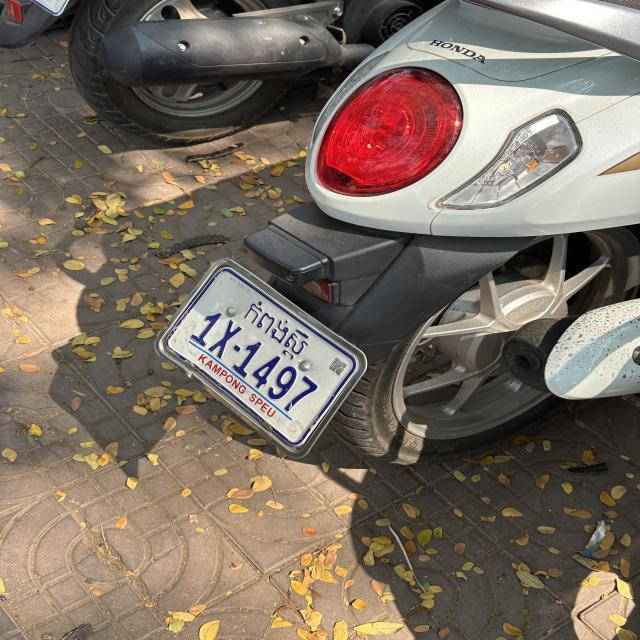Kampong_Speu: (244, 301, 314, 360)
